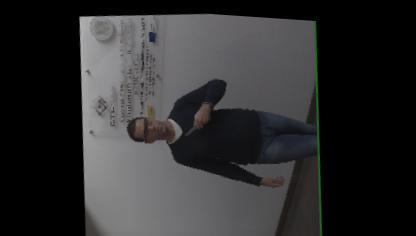knife: (182, 114, 206, 134)
